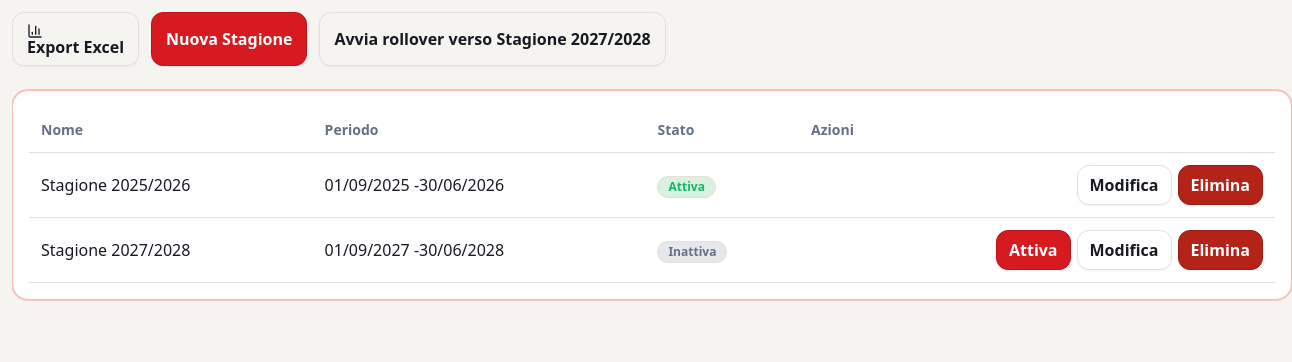
Test: SeasonsManager creation flow › keeps the season list unchanged and reports activation failures
What coordinates should you click on to do the following:
click the button "Attiva"
I would click on:
 (1033, 250)
Its box is x1=996 y1=230 x2=1071 y2=270.
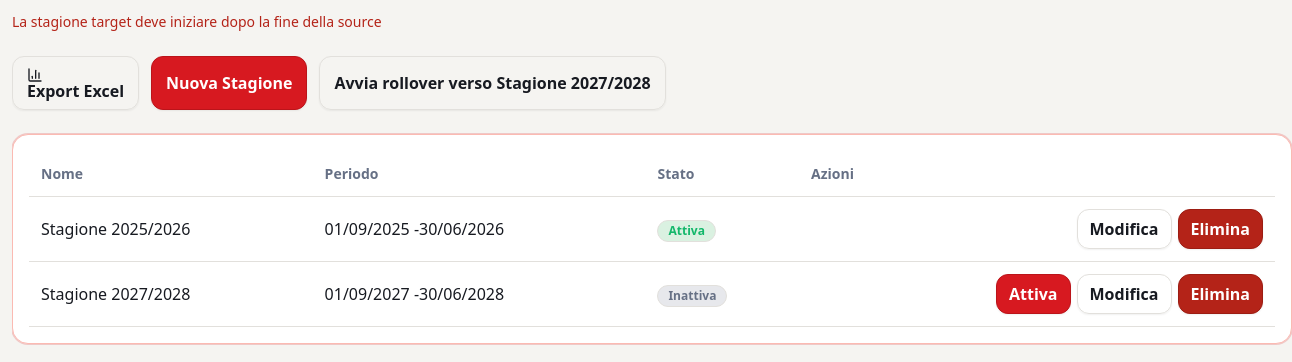
Expected: the message reads "La stagione target deve iniziare dopo la fine della source", x1=12 y1=12 x2=382 y2=31
